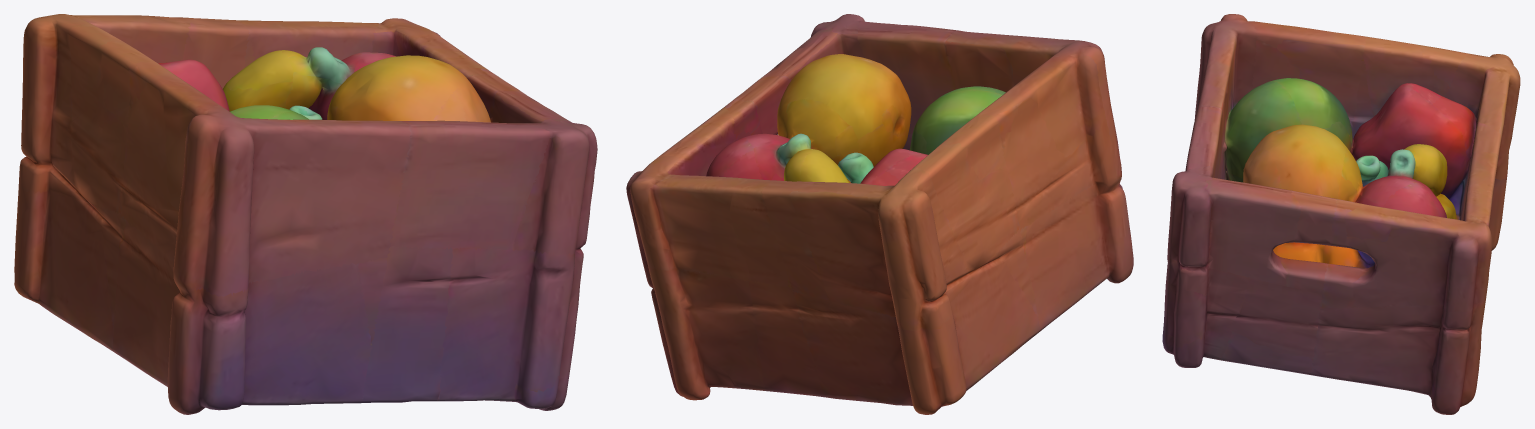
File: crate_goods.glb
3 views of the same model, side by side, from view 1: azimuth 30°, elevation 25°; view 2: azimuth 150°, elevation 25°; view 3: azimuth 270°, elevation 25° (orthographic). The views are drawn at different scales.
Visible parts, largest first — view 1: tripo_node_4f499fdf-c570-452d-acbb-bab84cc34e6c; view 2: tripo_node_4f499fdf-c570-452d-acbb-bab84cc34e6c; view 3: tripo_node_4f499fdf-c570-452d-acbb-bab84cc34e6c.
Boxes of the visible parts, left/top/right/bottom form: tripo_node_4f499fdf-c570-452d-acbb-bab84cc34e6c: left=14, top=14, right=597, bottom=414; tripo_node_4f499fdf-c570-452d-acbb-bab84cc34e6c: left=626, top=14, right=1133, bottom=414; tripo_node_4f499fdf-c570-452d-acbb-bab84cc34e6c: left=1162, top=14, right=1520, bottom=414.
Size of the model in its own units: 0.9513 by 0.8214 by 0.9481.
1 material, 1 textured.
